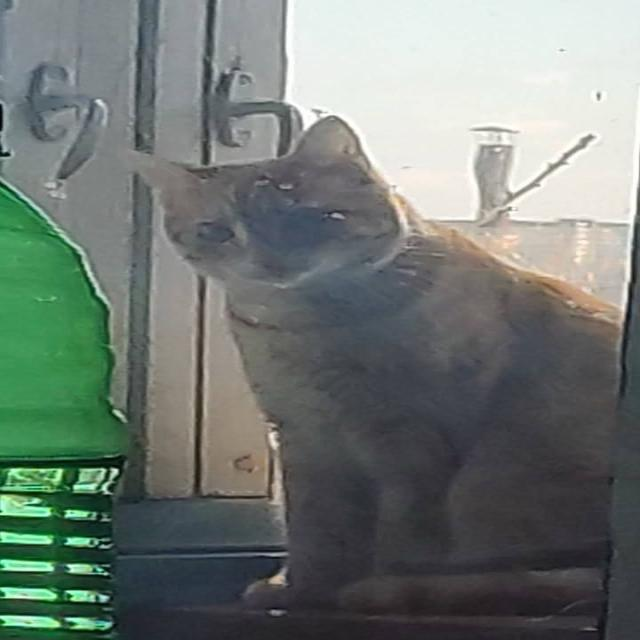red_cat: (119, 121, 640, 632)
